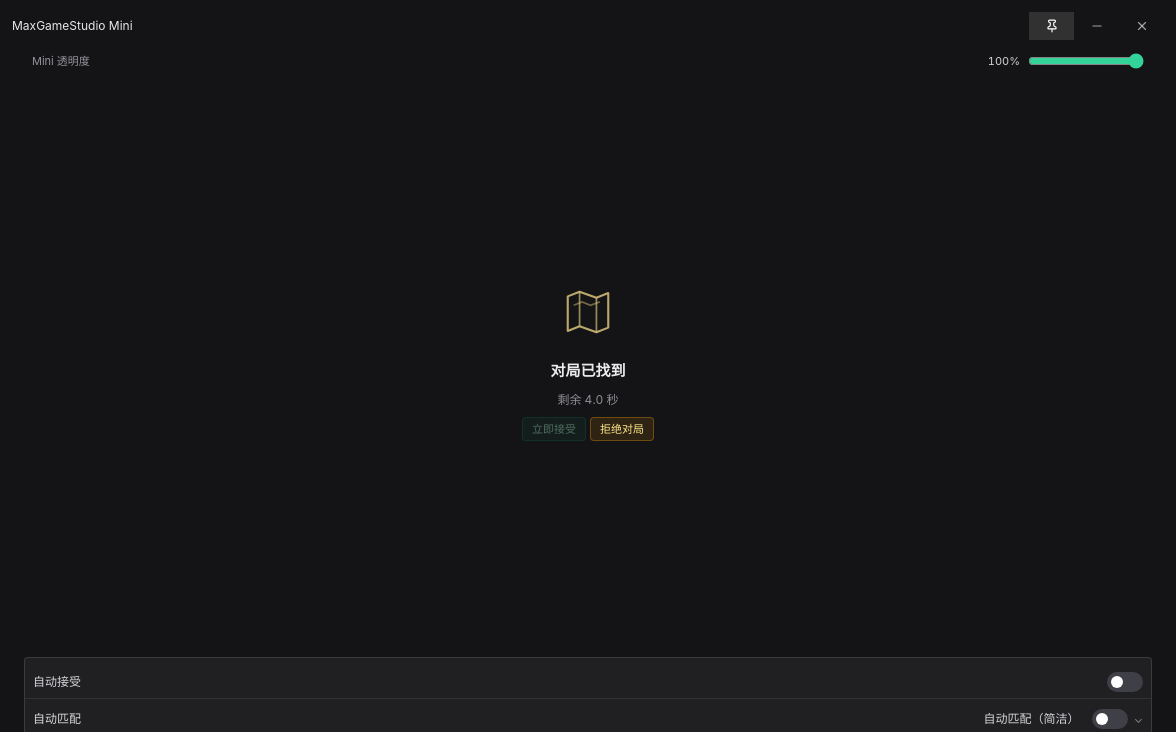
it: LeagueMiniPanel › sends a gated ReadyCheck decline and never hides the API error
Click the button "拒绝对局": (622, 429) [590, 416, 654, 441]
(page scrolled)
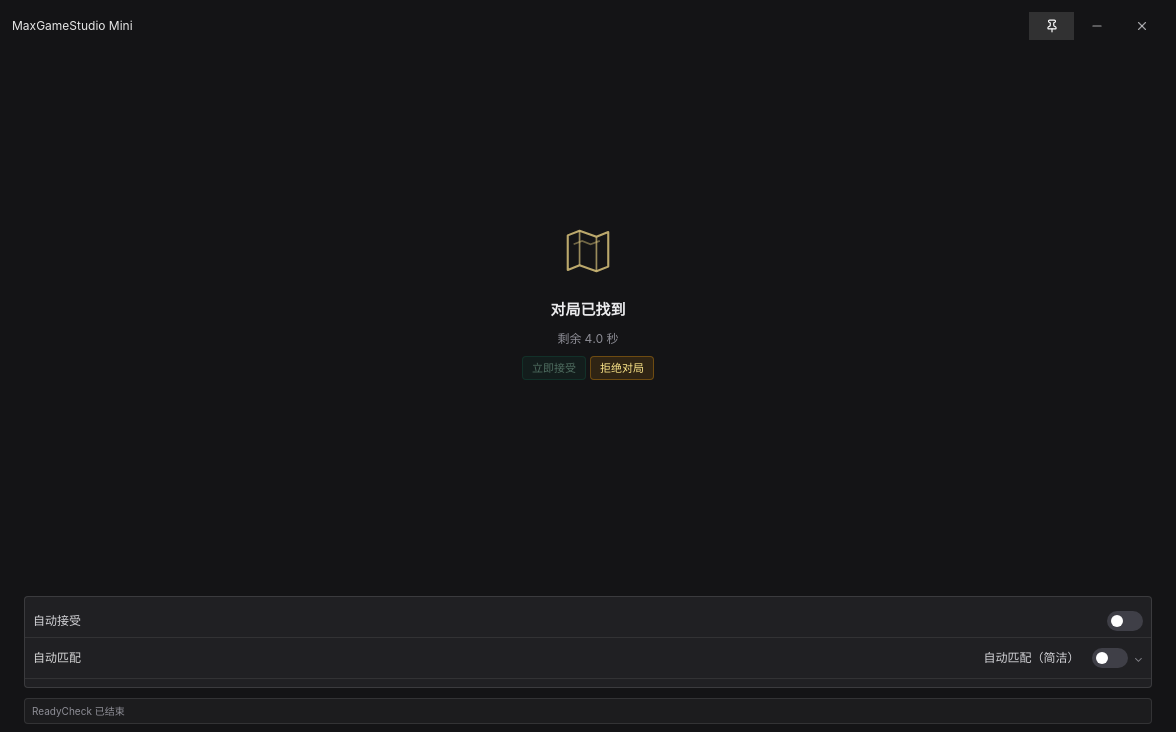
Result: the text "ReadyCheck 已结束" is shown at [24, 698, 1152, 724]
